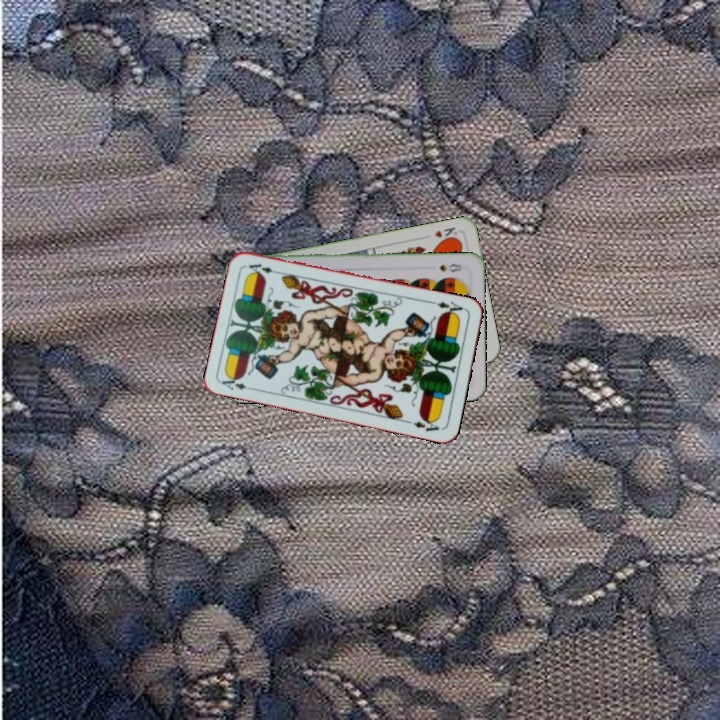EA: (218, 372, 258, 393), (433, 297, 468, 319)
HK: (430, 223, 460, 240)
S8: (436, 260, 466, 275)
